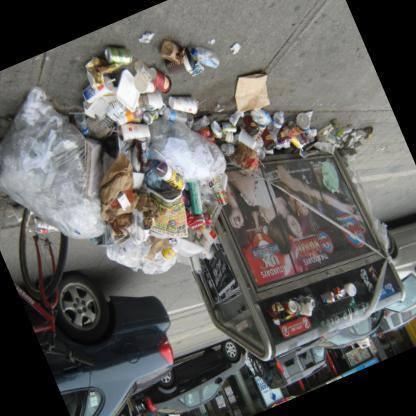Garbage: (28, 23, 248, 285), (0, 58, 174, 258), (164, 50, 329, 188), (303, 93, 381, 161)
